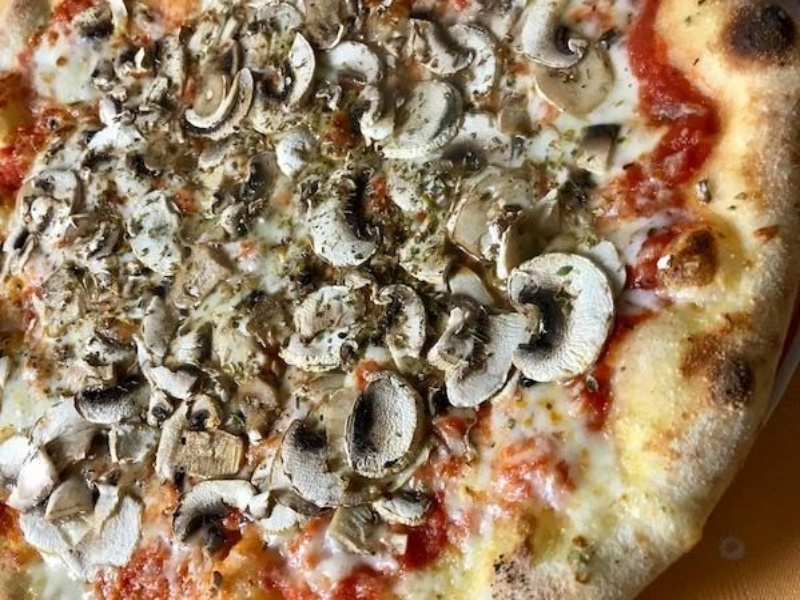champignon: (511, 250, 623, 390), (343, 372, 426, 484)
